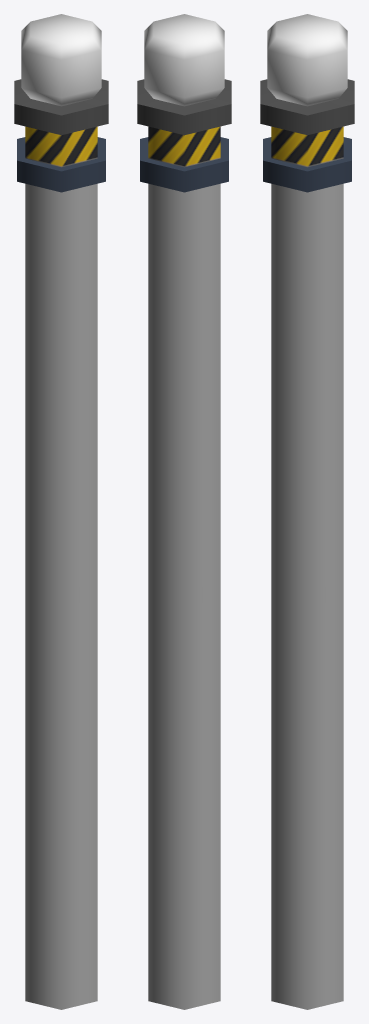
File: LightB.fbx
The picture shows the model from 3 angles, left to right: view 1: azimuth 90°, elevation 25°; view 2: azimuth 150°, elevation 25°; view 3: azimuth 330°, elevation 25°; orthographic projection.
Parts seen in each view (by area): view 1: LightB; view 2: LightB; view 3: LightB.
Boxes of the visible parts, x1,y1,x2,y2 form: LightB: [14, 14, 108, 1009]; LightB: [137, 14, 231, 1009]; LightB: [260, 14, 354, 1009].
Size of the model in its own units: 0.1311 by 1.28 by 0.1136.
